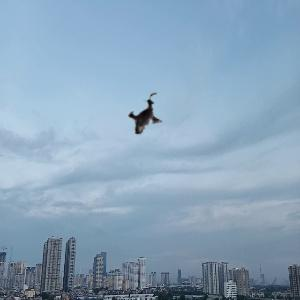drone: (119, 91, 179, 151)
